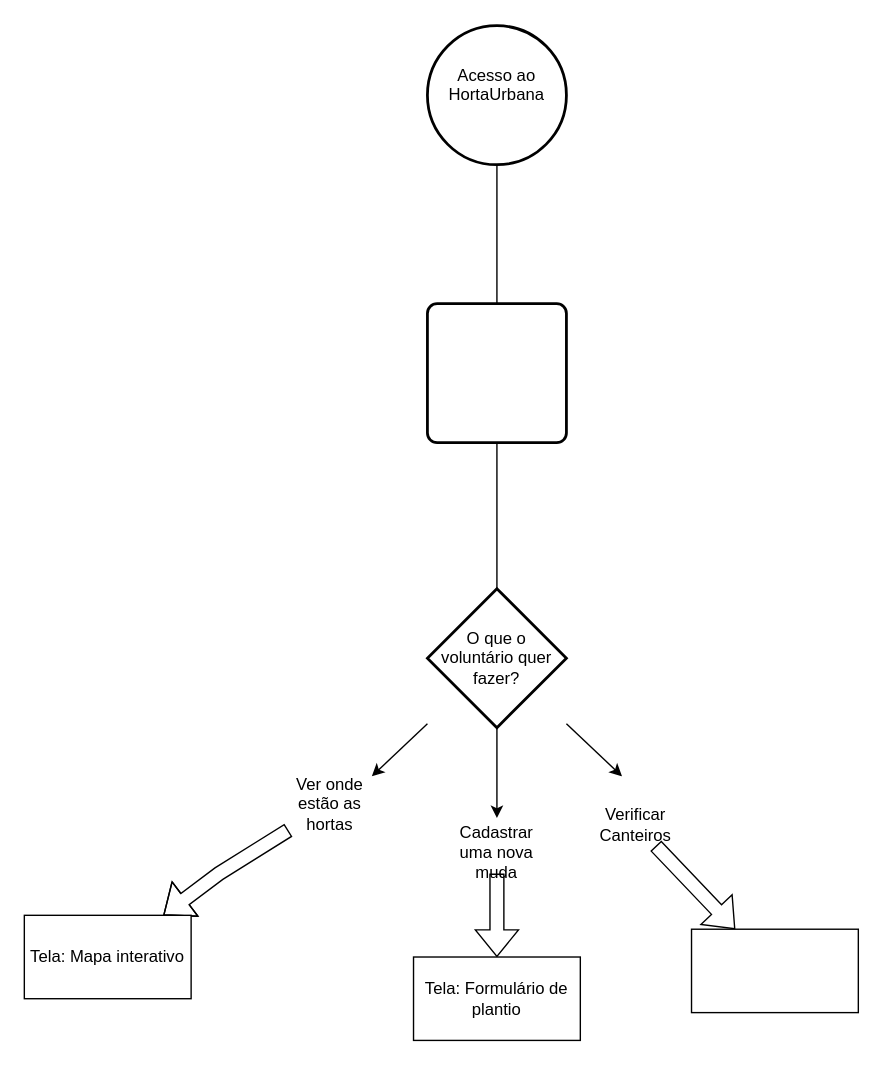
Image size: 883x1065. Some labels were removed from this diagram. The shapes that lost their labels are listed below. From the top down, each one's box as (x1, y1, x2, y2) in pixels, then its label:
(425, 302, 567, 443): Tela de Painel de Controle (Dashboard)
(690, 928, 858, 1013): Tela: Lista de canteiros(Status)
